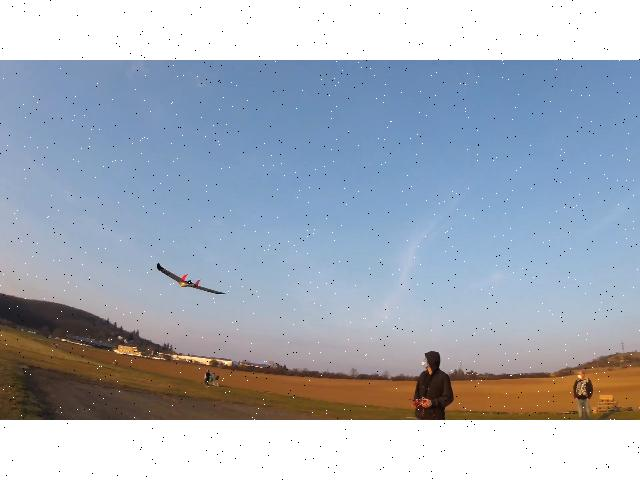Anti-Drone: (158, 264, 226, 294)
